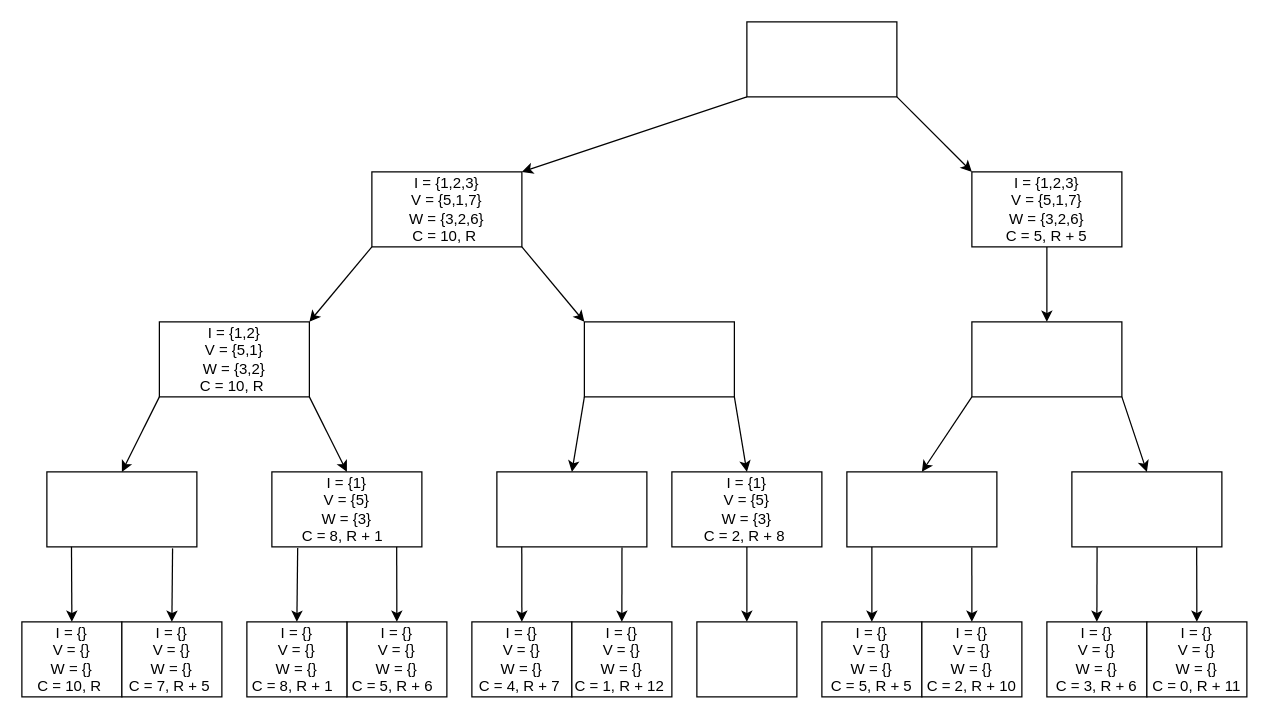
This 1269x719 diagram has some shape labels left out. Here are the shapes that lost their labels. From the top down, the centre of each, then its label:
(x=821, y=59): I = {1,2,3,4} V = {5,1,7,5} W = {3,2,6,5} C = 10, R
(x=658, y=359): I = {1,2} V = {5,1} W = {3,2} C = 4, R + 7
(x=1046, y=359): I = {1,2} V = {5,1} W = {3,2} C = 5, R + 5
(x=121, y=509): I = {1} V = {5} W = {3} C = 10, R
(x=571, y=509): I = {1} V = {5} W = {3} C = 4, R + 7
(x=921, y=509): I = {1} V = {5} W = {3} C = 5, R + 5
(x=1146, y=509): I = {1} V = {5} W = {3} C = 3, R + 6
(x=746, y=659): I = {} V = {} W = {} C = 2, R + 8
